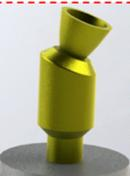thruster: (58, 5, 112, 57)
